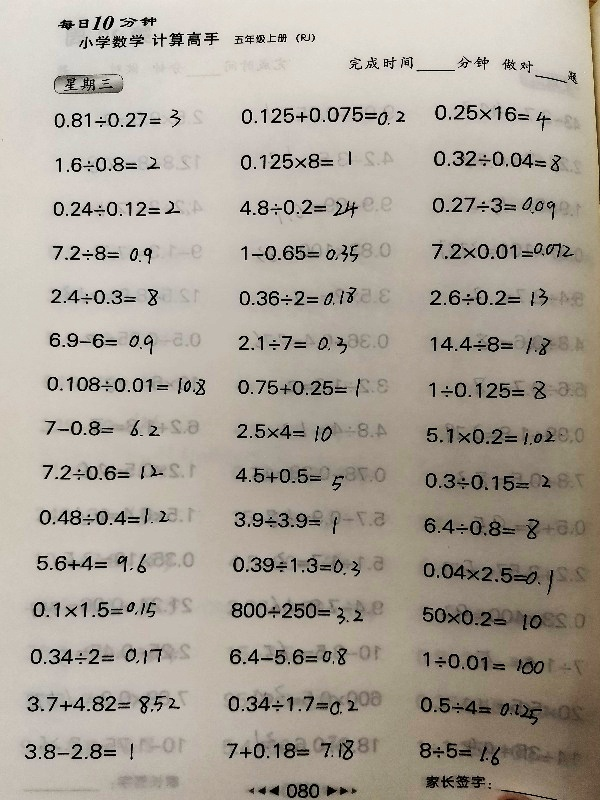equation: (237, 102, 408, 128), (419, 562, 556, 594), (37, 411, 168, 443), (24, 692, 184, 718), (43, 372, 209, 397), (428, 190, 559, 220), (232, 462, 348, 495), (223, 736, 358, 764), (227, 598, 367, 625), (431, 100, 554, 129), (420, 514, 542, 543), (51, 106, 185, 132), (416, 695, 545, 722), (428, 239, 577, 262), (224, 692, 361, 717), (429, 147, 564, 172), (426, 377, 550, 404), (27, 645, 166, 669), (422, 424, 566, 447), (426, 332, 553, 358), (235, 375, 364, 400), (229, 553, 363, 577), (421, 470, 553, 494), (35, 505, 172, 528), (427, 285, 552, 310), (235, 285, 360, 310), (236, 195, 361, 220), (22, 740, 146, 765), (238, 241, 362, 266), (30, 597, 159, 621), (49, 197, 183, 220), (236, 149, 357, 174), (34, 551, 150, 577), (226, 645, 351, 669), (419, 652, 547, 675), (39, 461, 166, 484), (45, 329, 156, 355), (235, 331, 350, 356), (48, 285, 162, 310), (231, 508, 340, 534), (416, 739, 507, 768), (53, 153, 164, 176), (49, 241, 155, 265), (233, 420, 335, 444), (418, 605, 510, 628)
